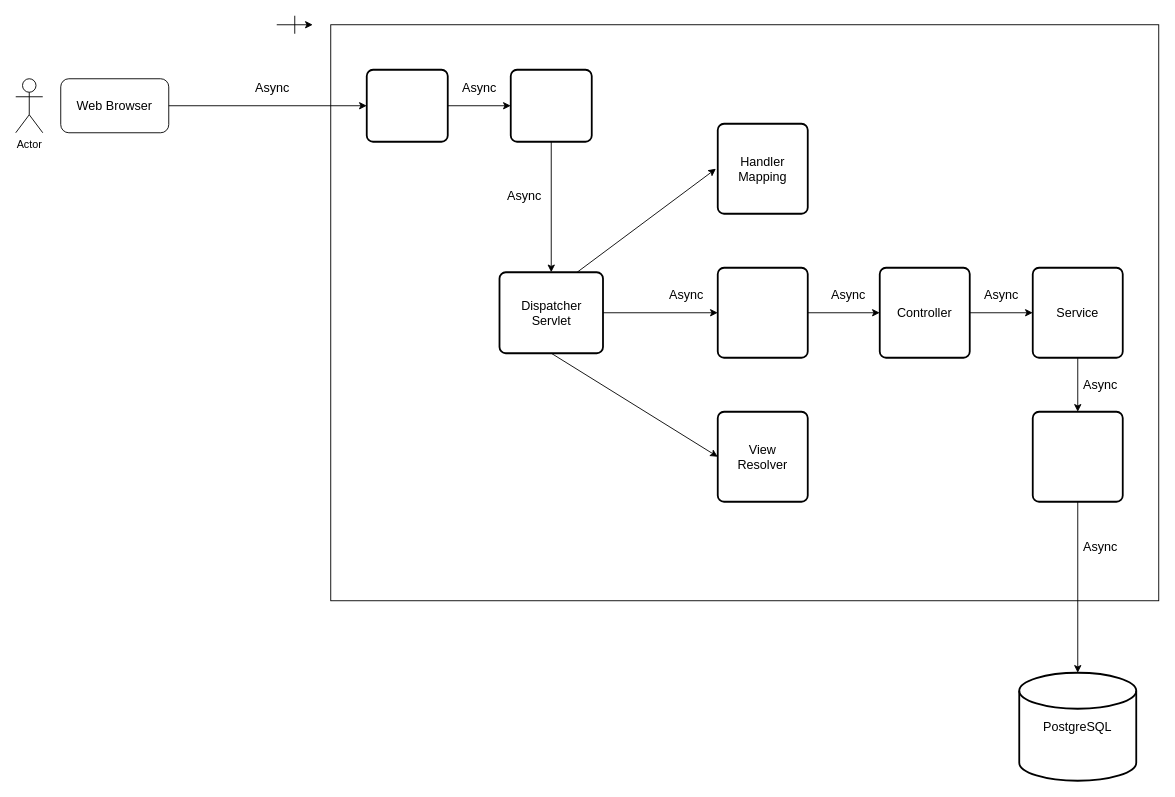
Image size: 1175x797. Some labels were removed from this diagram. Each missing label, with the box of its shape:
Handler Adapter: (716, 266, 808, 358)
Repository: (1031, 410, 1123, 502)
Web Container: (509, 68, 592, 142)
WebServer App: (365, 68, 448, 142)
